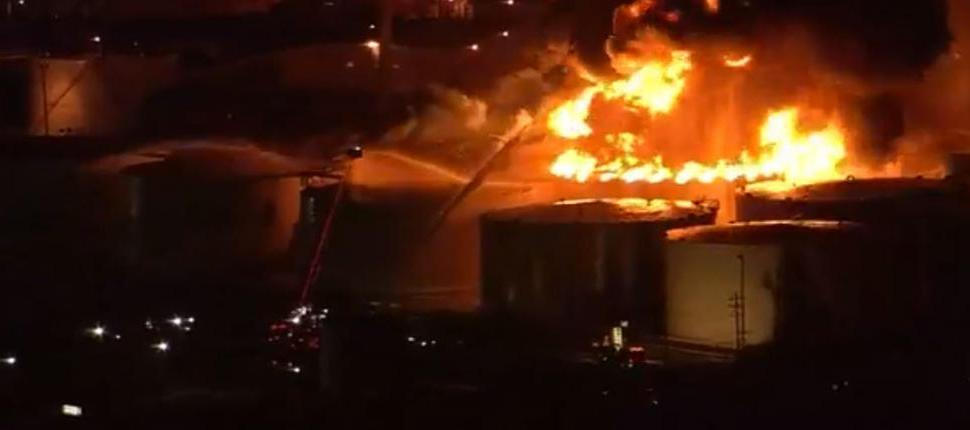fire: (535, 48, 856, 187)
